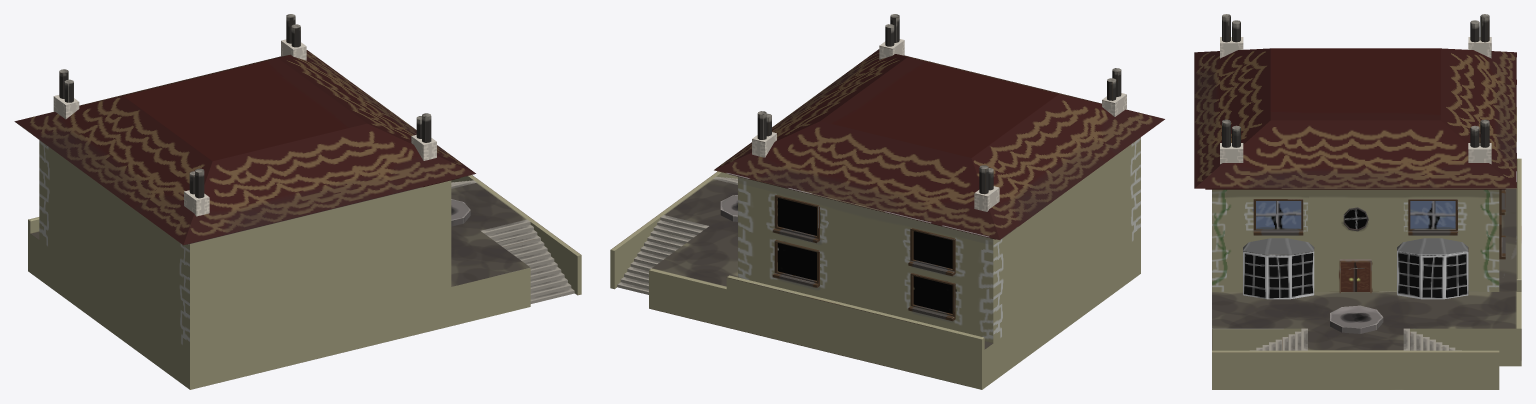
File: the_big_house.glb
3 renders of one model, left to right at view 1: azimuth 30°, elevation 25°; view 2: azimuth 150°, elevation 25°; view 3: azimuth 270°, elevation 25°, orthographic. The views are drawn at different scales.
Visible parts, largest first — view 1: TheBigHouse; view 2: TheBigHouse; view 3: TheBigHouse.
Boxes of the visible parts, bbox=[...] form: TheBigHouse: bbox=[14, 14, 581, 389]; TheBigHouse: bbox=[610, 14, 1164, 389]; TheBigHouse: bbox=[1194, 14, 1521, 389].
Size of the model in its own units: 3.12 by 1.54 by 2.28.
Materials: 1 (1 with a texture image).
